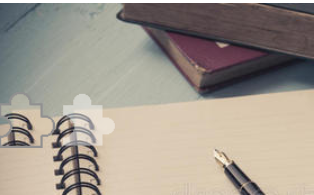target: (52, 89, 120, 150)
